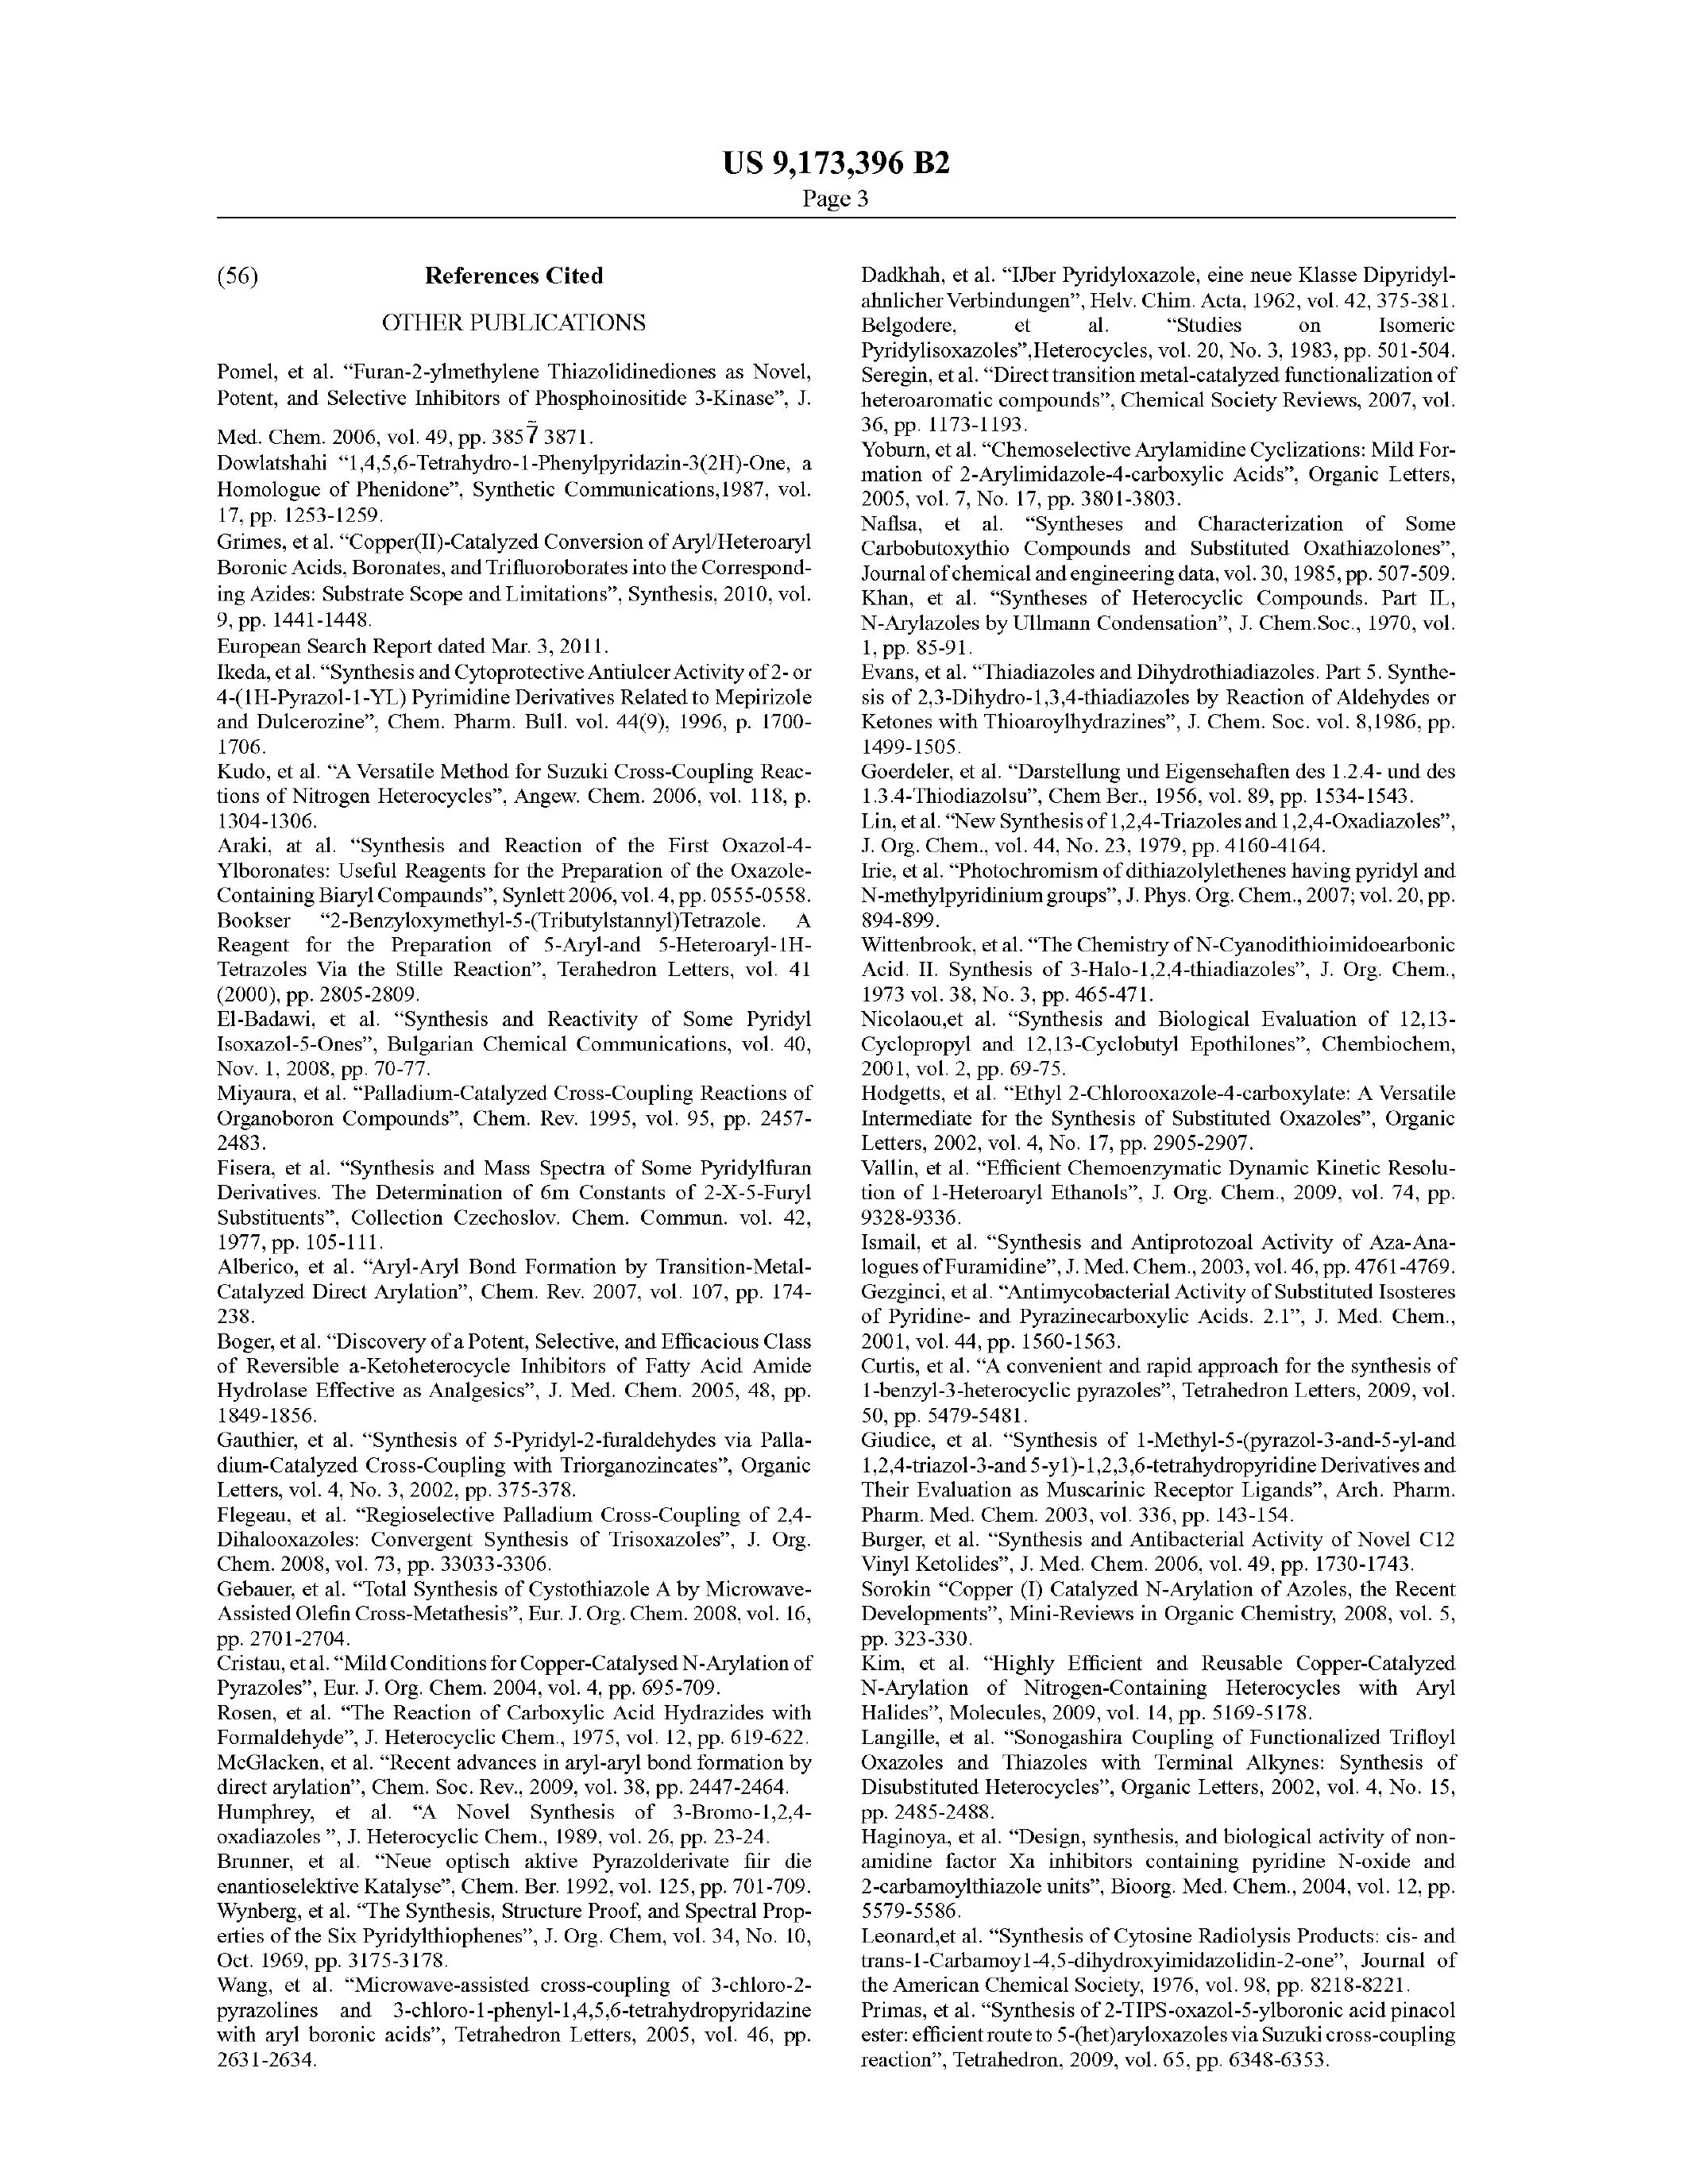reactions: (202, 759, 819, 1145)
